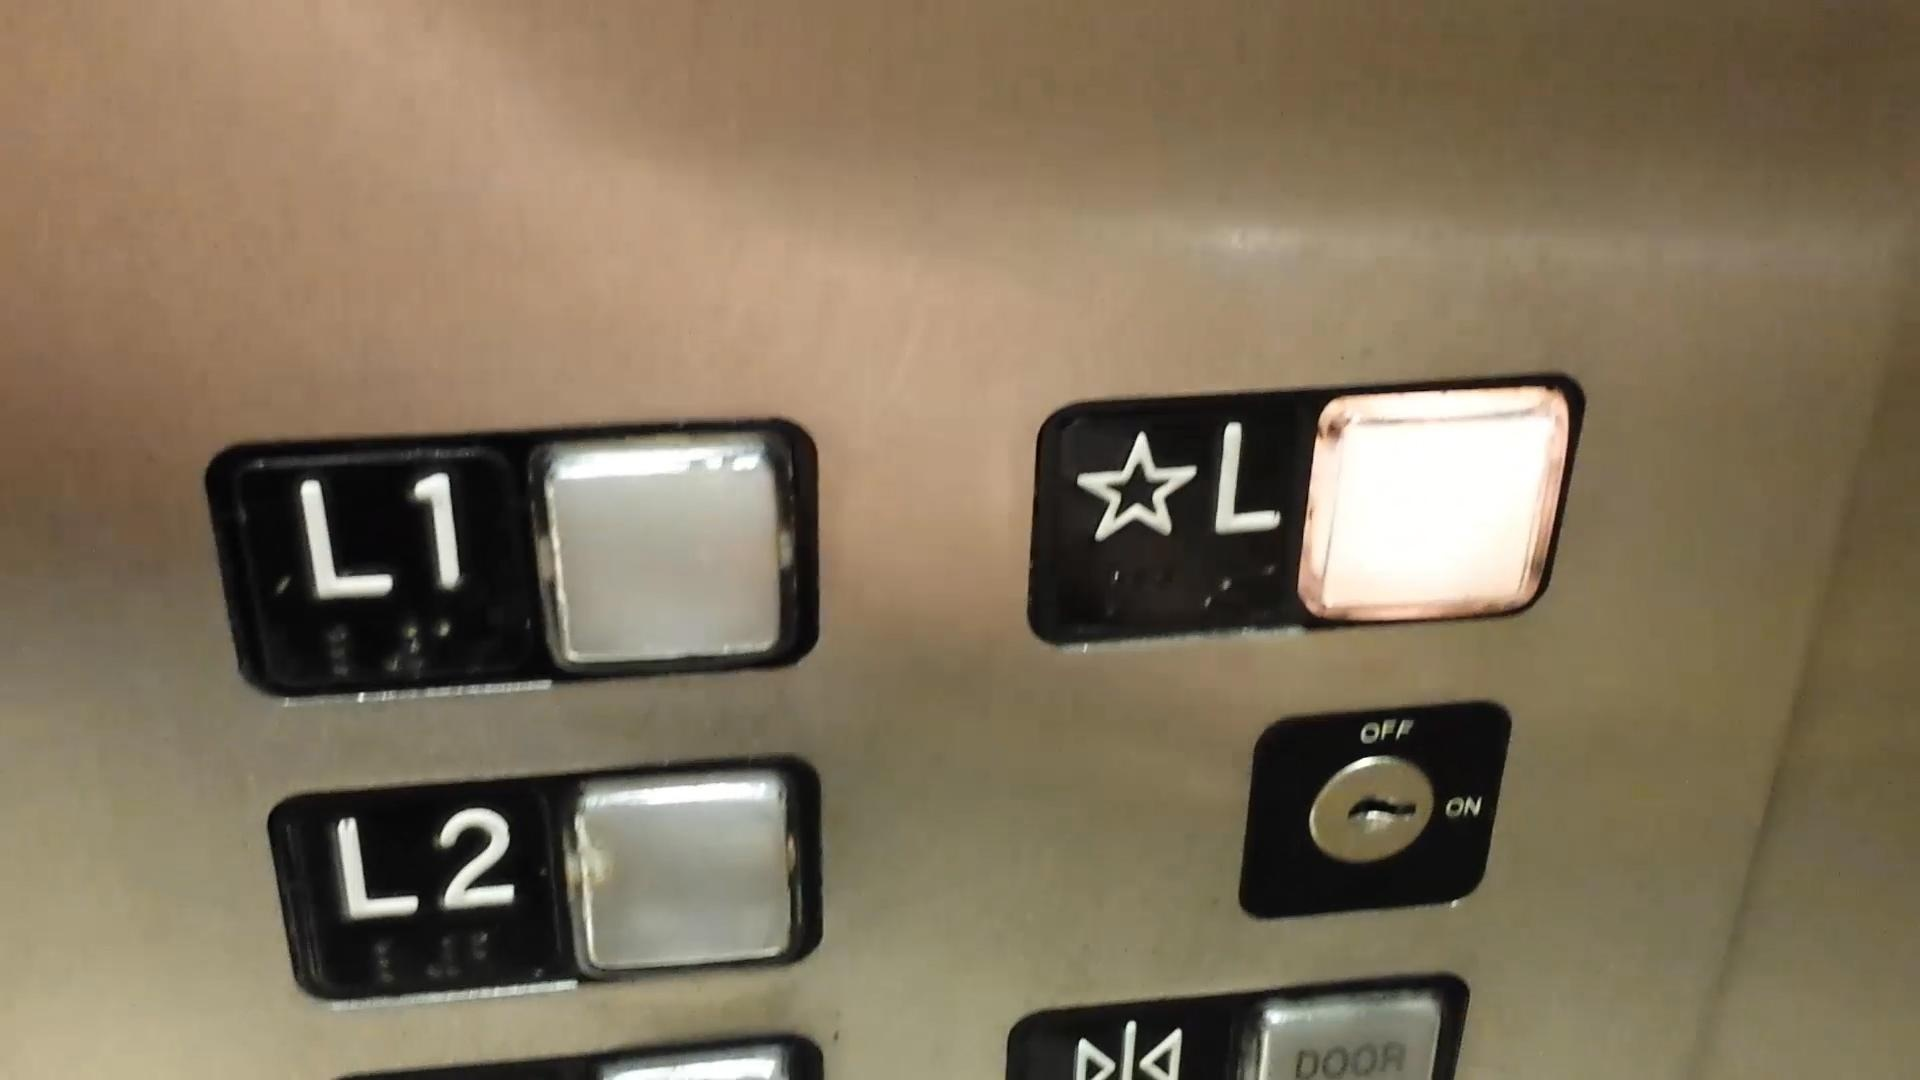L1: (193, 407, 833, 713)
L2: (258, 744, 832, 1017)
keyhole: (1228, 682, 1519, 924)
sL: (1015, 364, 1592, 658)
